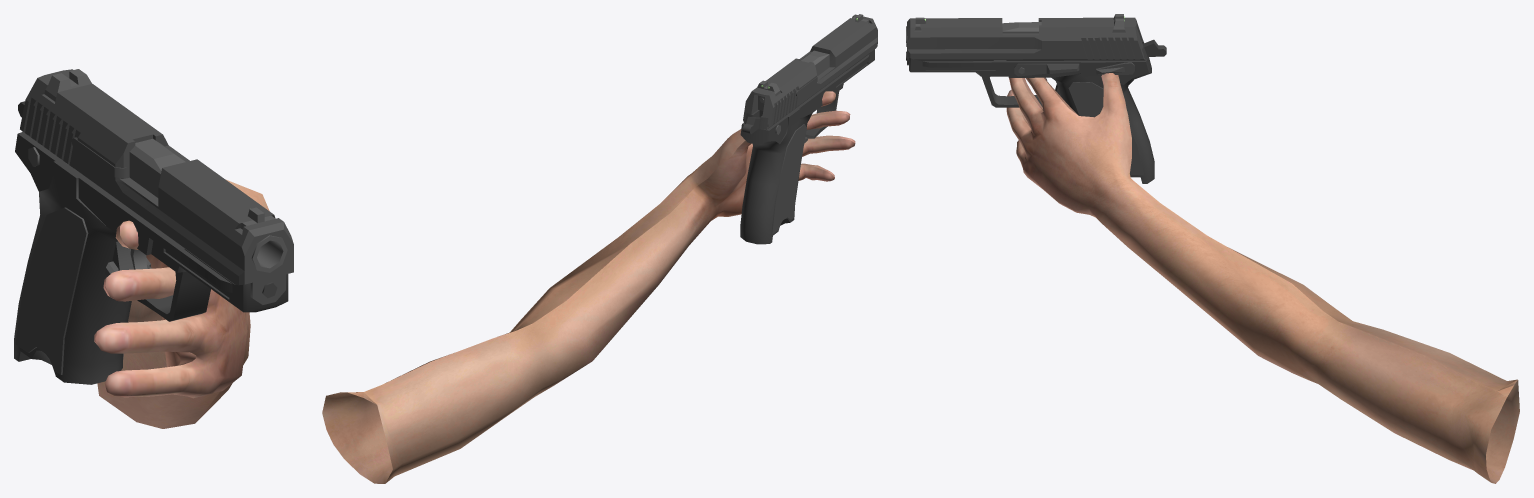
File: usp.glb
The picture shows the model from 3 angles, left to right: view 1: azimuth 30°, elevation 25°; view 2: azimuth 150°, elevation 25°; view 3: azimuth 270°, elevation 25°; orthographic projection. The views are drawn at different scales.
Visible parts, largest first — view 1: object 6, object 5, Object_15.001; view 2: Object_15.001, object 6, object 5; view 3: Object_15.001, object 5, object 6, object 7.
Part boxes in pixels (bbox=[...]): object 6: bbox=[14, 132, 288, 384]; object 5: bbox=[20, 69, 293, 304]; Object_15.001: bbox=[94, 179, 269, 428]; Object_15.001: bbox=[322, 91, 855, 483]; object 6: bbox=[740, 49, 874, 244]; object 5: bbox=[743, 14, 877, 129]; Object_15.001: bbox=[1006, 73, 1519, 483]; object 5: bbox=[907, 14, 1145, 65]; object 6: bbox=[906, 22, 1154, 183]; object 7: bbox=[1014, 63, 1079, 76].
Bounding box in the file's own units: 0.8383 × 0.8294 × 1.32.
Materials: 3 (2 with a texture image).
